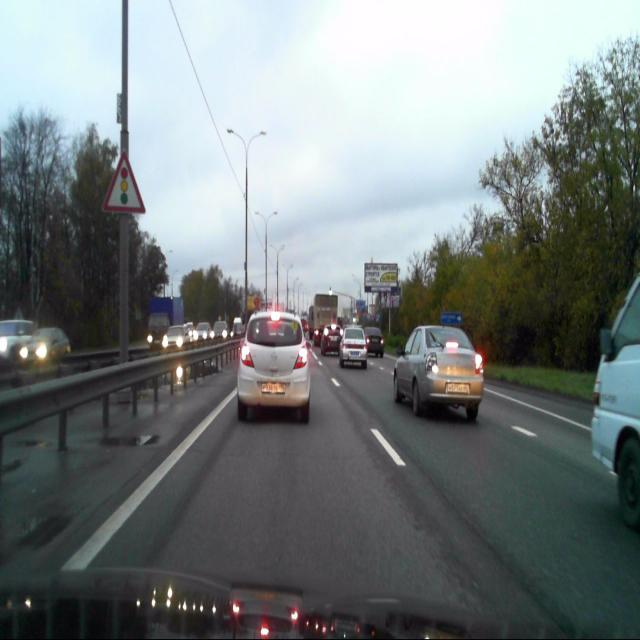road sign: (103, 148, 146, 213), (440, 311, 463, 324)
